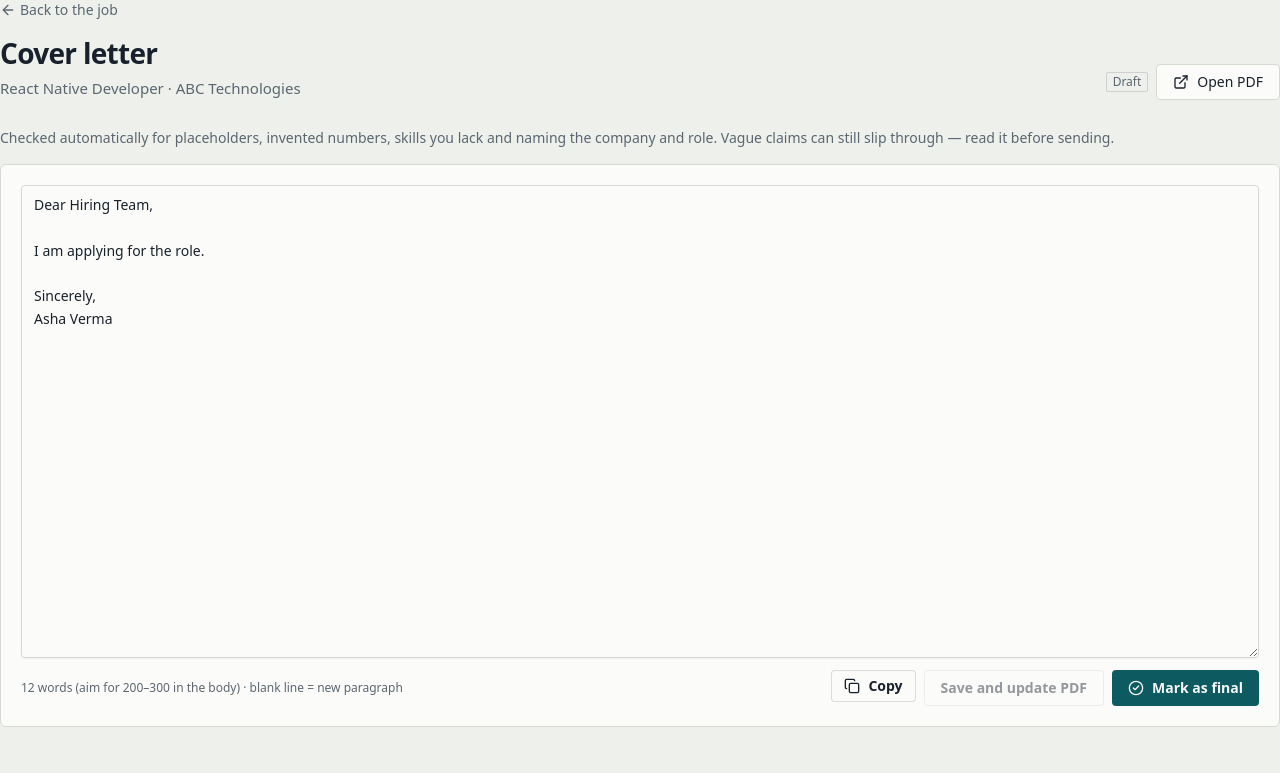
CoverLetterPage › edits the letter, marks it final and shows warnings
Type " [ [Your Name]" into the text box named "Cover letter text".
click(640, 422); type(" [ [Your Name]")  # box [21,185,1259,658]
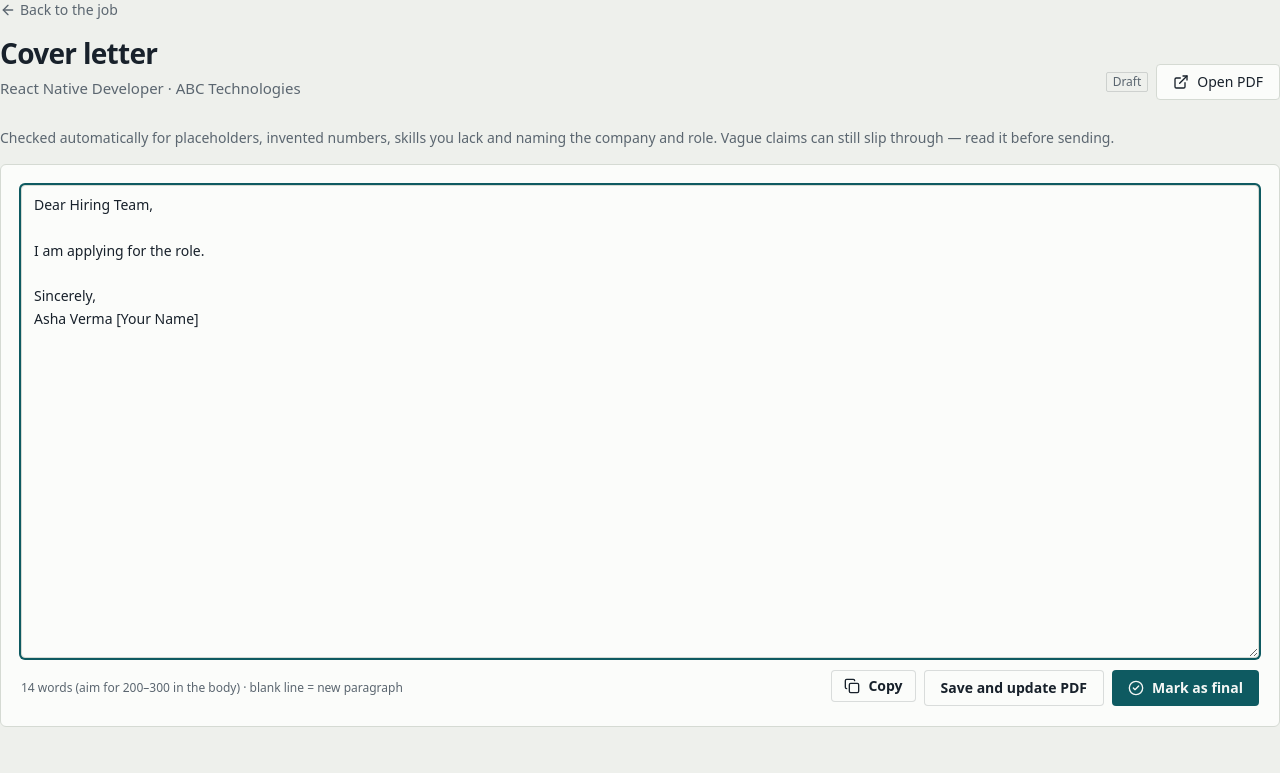
Click the button "Mark as final".
click(1186, 688)  # box [1112,670,1259,706]
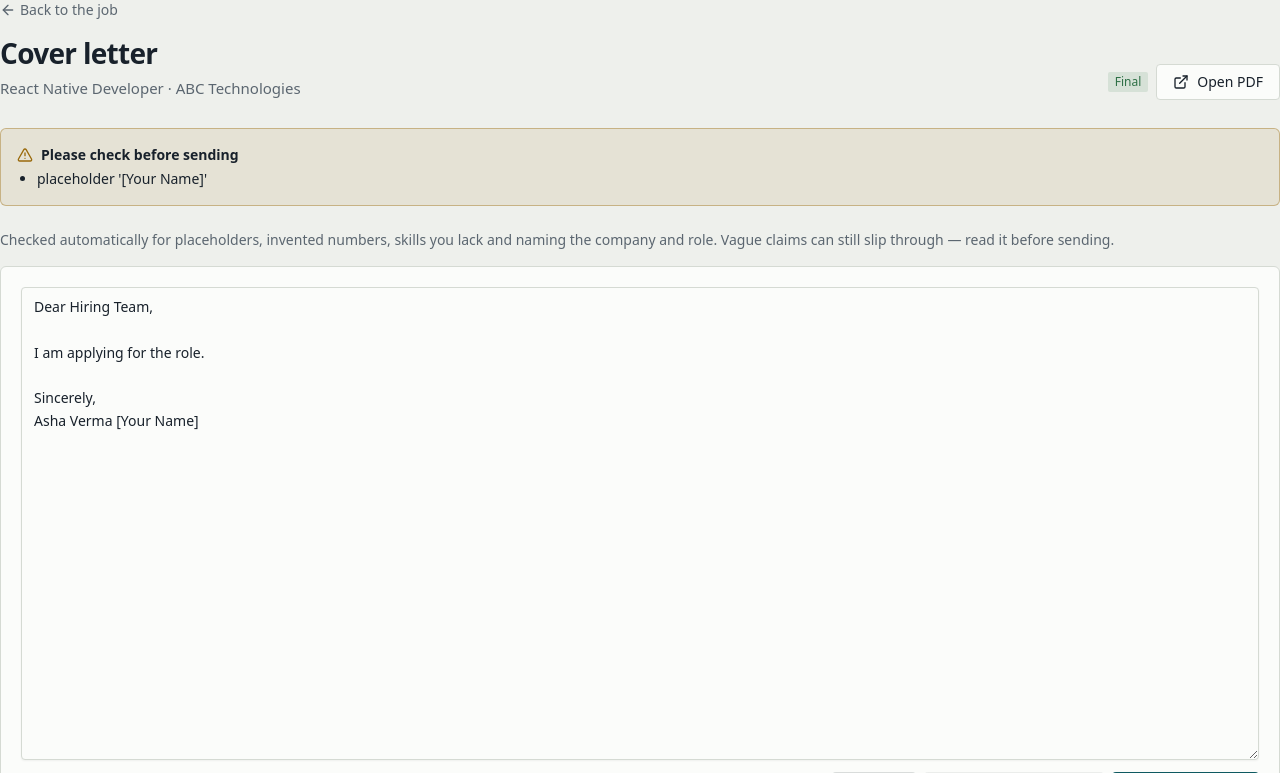
Now the list item "placeholder '[Your Name]'" is shown, box [37,169,207,188]
Now the text "Final" is shown, box [1108,72,1148,92]
